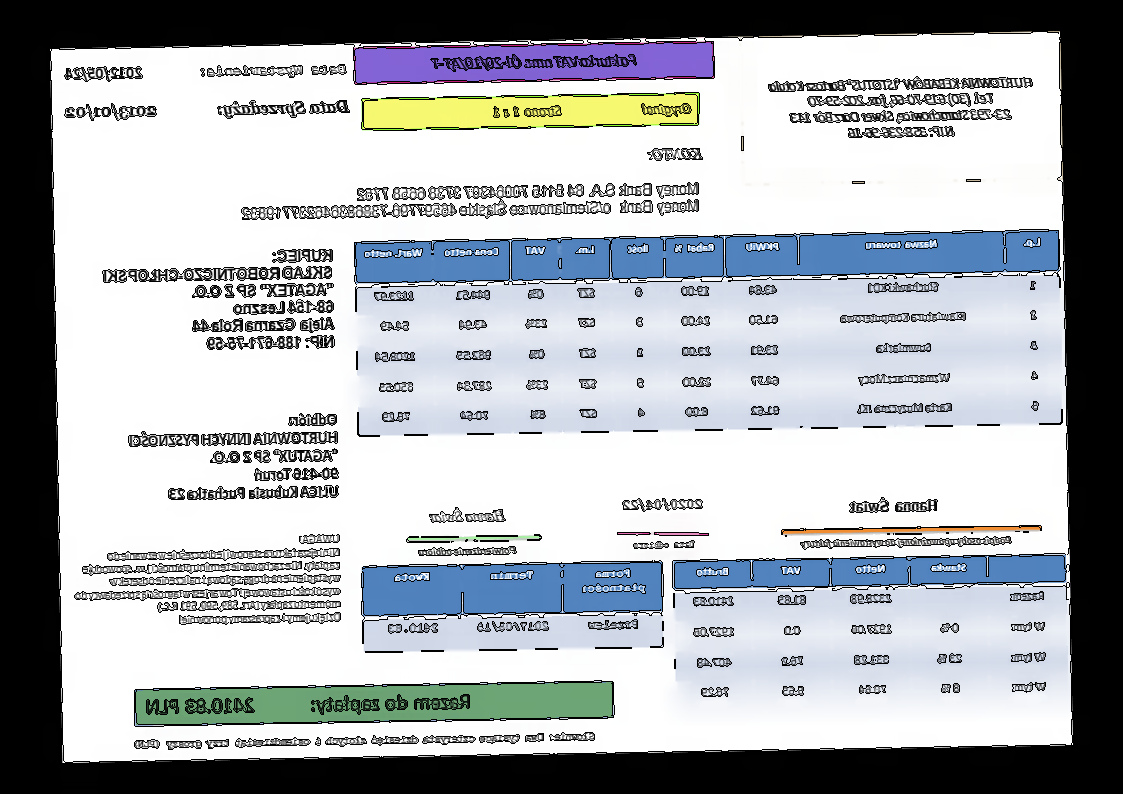Table: (352, 228, 1064, 438), (670, 551, 1071, 714), (361, 559, 665, 654)
TextBox: (71, 530, 344, 630), (101, 244, 338, 355), (239, 176, 702, 223), (127, 409, 341, 504), (766, 74, 1036, 143), (132, 728, 597, 754), (143, 687, 474, 719), (490, 99, 695, 123), (426, 51, 642, 73), (796, 532, 1014, 550), (215, 96, 351, 122), (198, 61, 350, 81), (60, 101, 157, 123), (619, 493, 706, 516), (846, 495, 942, 515), (61, 63, 146, 84), (426, 505, 507, 525), (416, 544, 521, 559), (645, 142, 705, 163), (631, 537, 697, 551)
